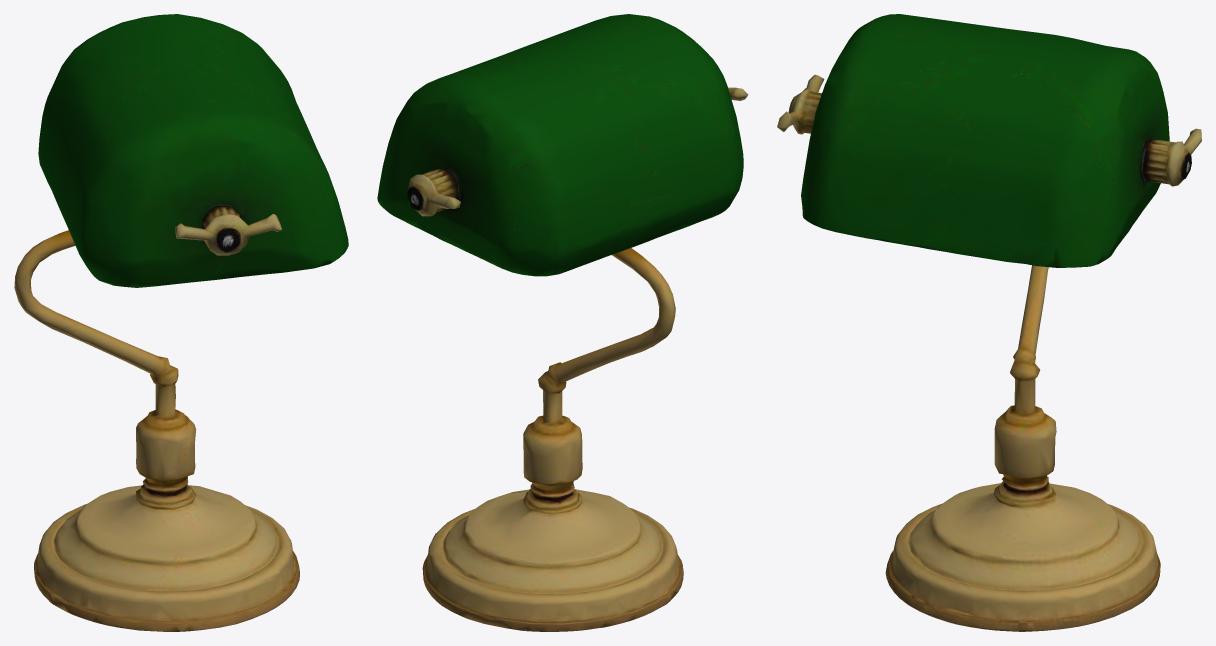
File: lamp-v2.glb
3 renders of one model, left to right at view 1: azimuth 30°, elevation 25°; view 2: azimuth 150°, elevation 25°; view 3: azimuth 270°, elevation 25°, orthographic. The views are drawn at different scales.
Parts seen in each view (by area): view 1: prop__lamp; view 2: prop__lamp; view 3: prop__lamp.
Part boxes in pixels (x1,y1,x2,y2): prop__lamp: (14,14,348,631); prop__lamp: (377,14,748,631); prop__lamp: (777,14,1201,631).
Bounding box in the file's own units: 0.2453 × 0.42 × 0.3035.
Materials: 1 (1 with a texture image).
